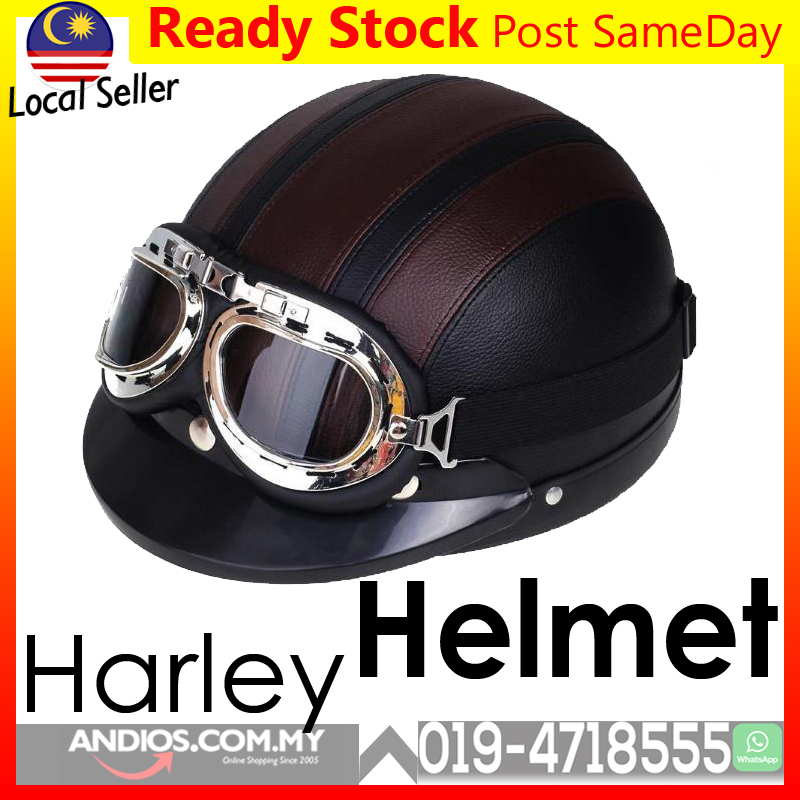with_helmet: (95, 69, 716, 554)
